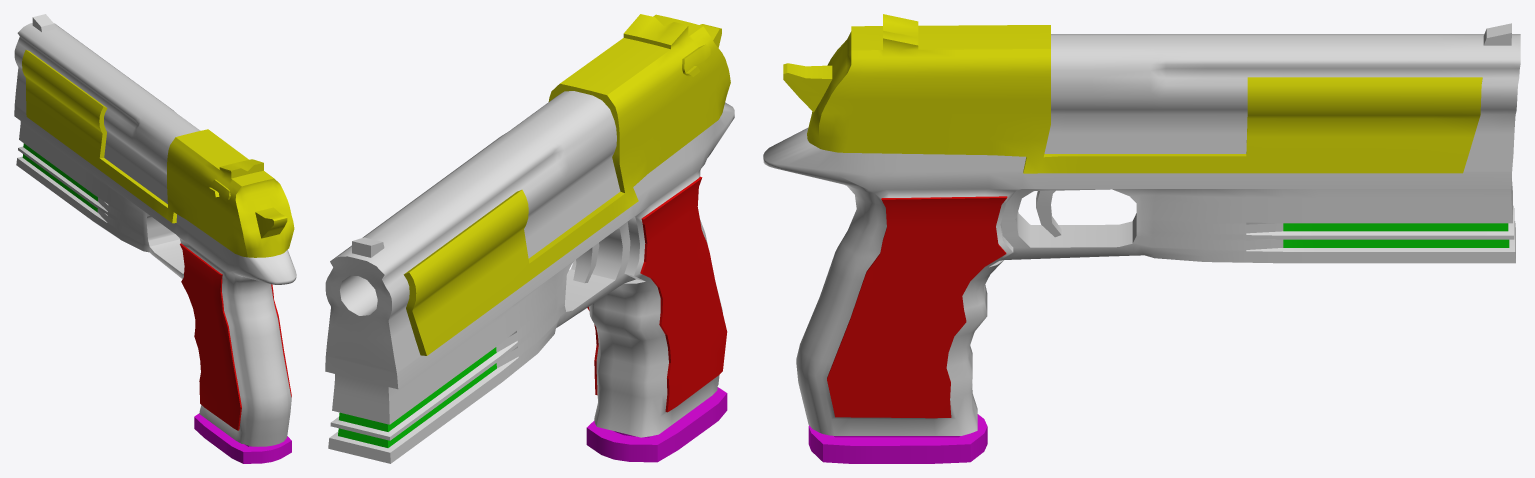
The model's file is Pistola_low.fbx.
3 views of the same model, side by side, from view 1: azimuth 30°, elevation 25°; view 2: azimuth 150°, elevation 25°; view 3: azimuth 270°, elevation 25° (orthographic). The views are drawn at different scales.
Visible parts, largest first — view 1: pistola_low; view 2: pistola_low; view 3: pistola_low.
Boxes of the visible parts, <box> form: pistola_low: <box>14,14,296,463</box>; pistola_low: <box>325,14,734,463</box>; pistola_low: <box>763,14,1520,463</box>.
Bounding box in the file's own units: 4.89 × 22.42 × 36.75.
